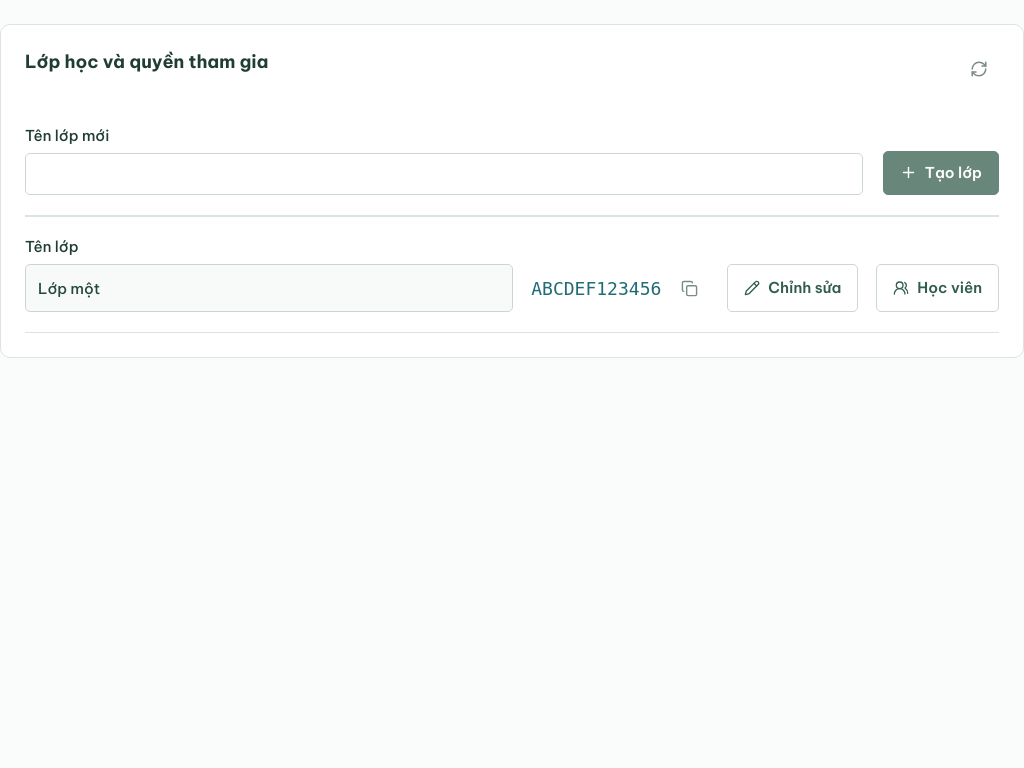
Test: cancels with Escape and restores focus without writing
Click the button with aria-label "Chỉnh sửa lớp Lớp một".
click(793, 288)  # box [727,264,858,312]
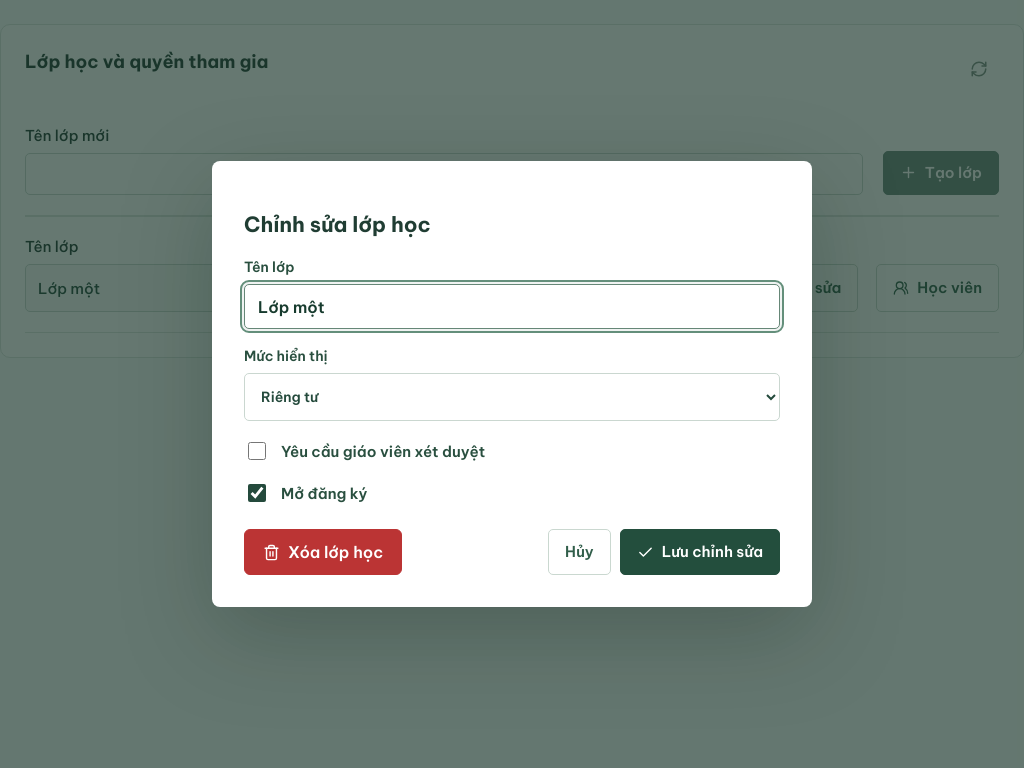
Press Escape
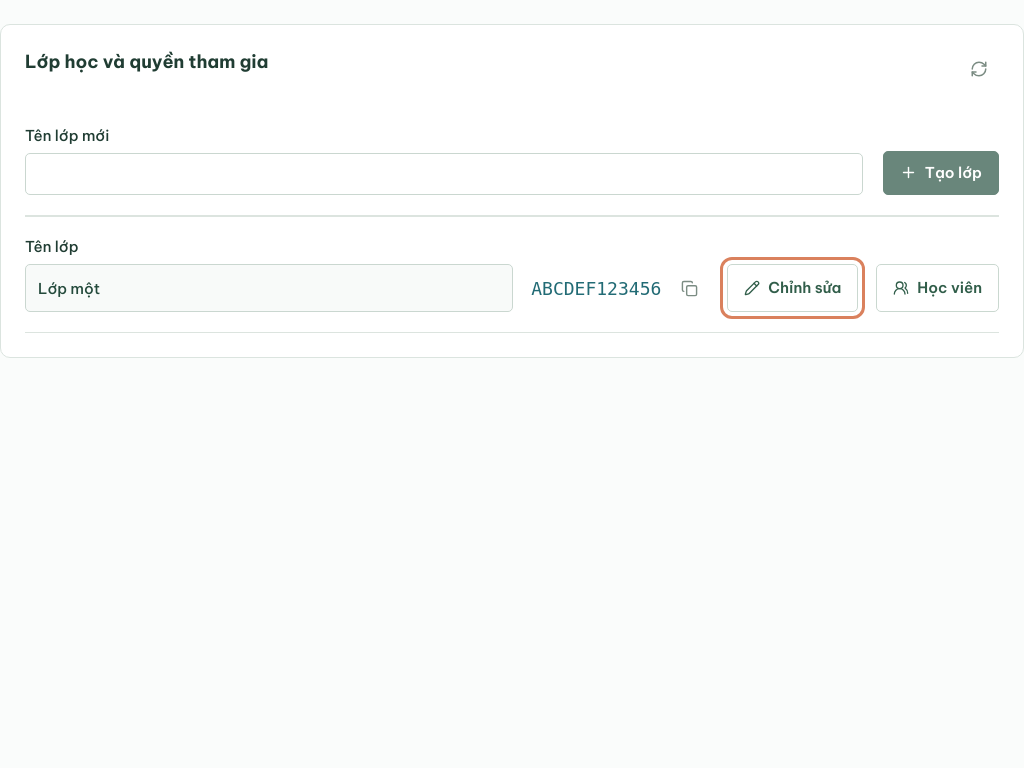
Expected: the dialog is gone
